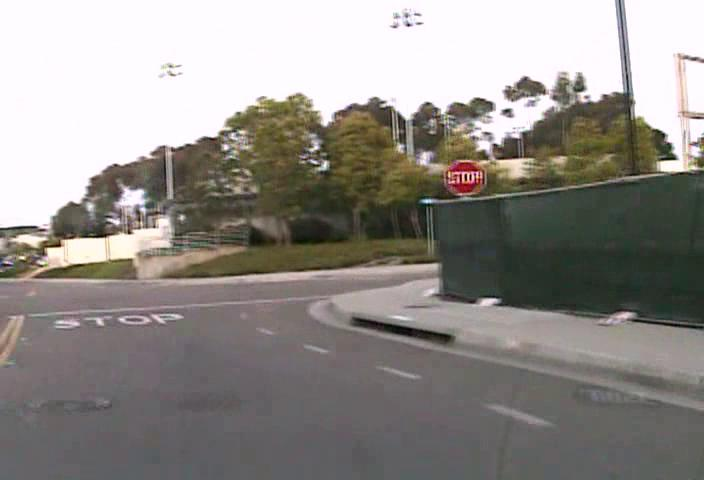stop: (444, 159, 486, 196)
